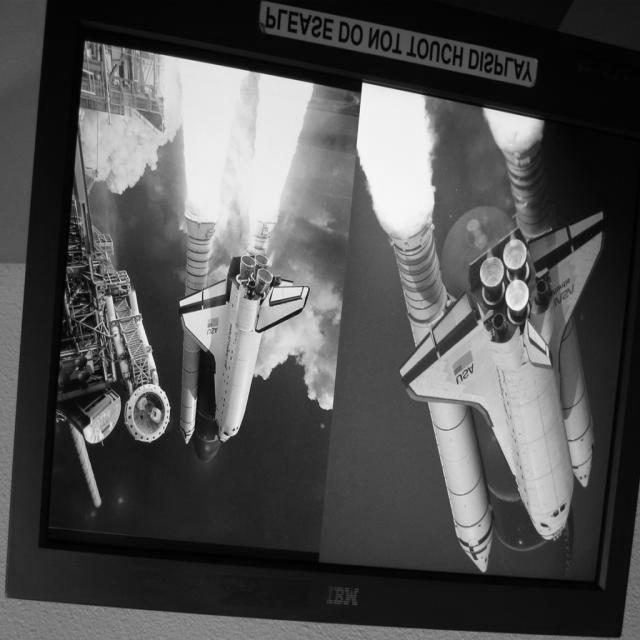missile: (360, 175, 518, 595), (171, 208, 210, 459)
